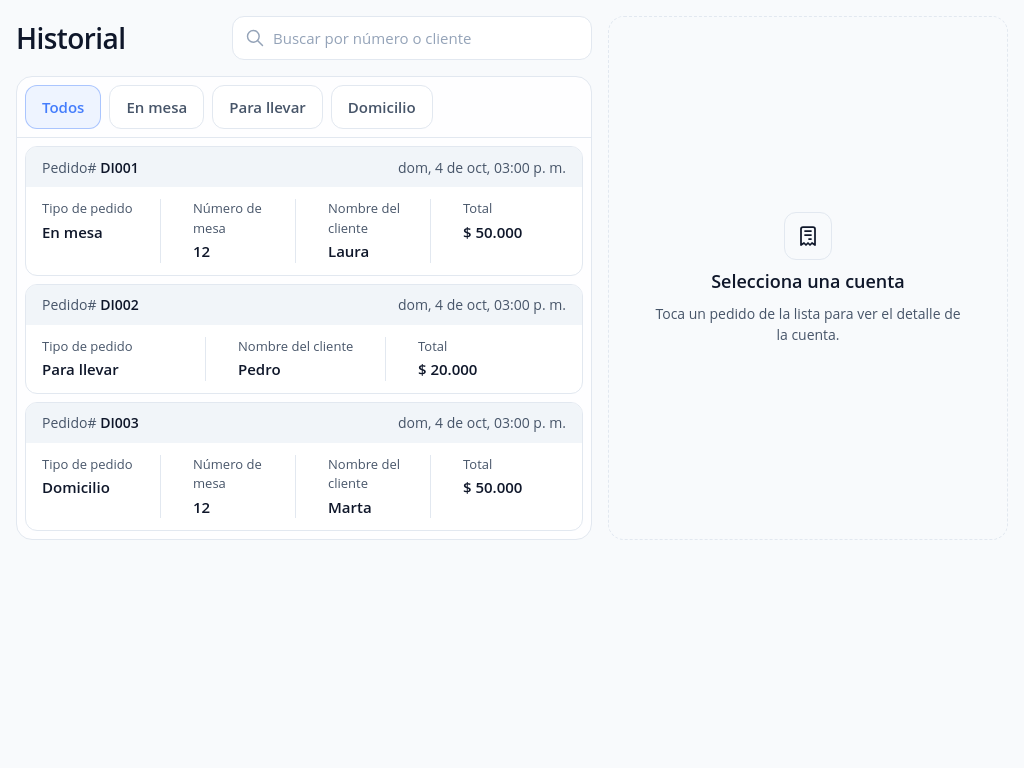
Test: elegir un pedido muestra su cuenta con subtotal, impuestos y total
Click the button "Pedido# DI001" at (304,167), box [25,146,583,276]
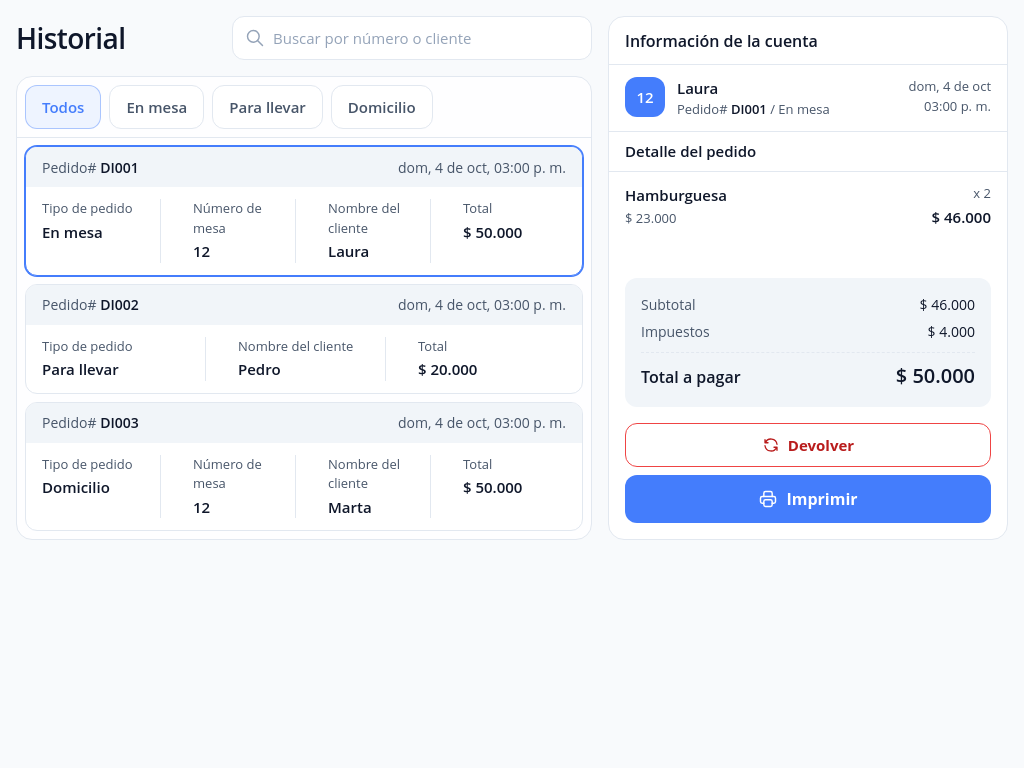
Check: the text "Hamburguesa" is shown, box [625,184,727,206]
Check: the text "Laura" below "Información de la cuenta" is shown, box [677,78,718,98]
Check: the text "$ 46.000" in the row of "Subtotal" is shown, box [920,294,975,315]
